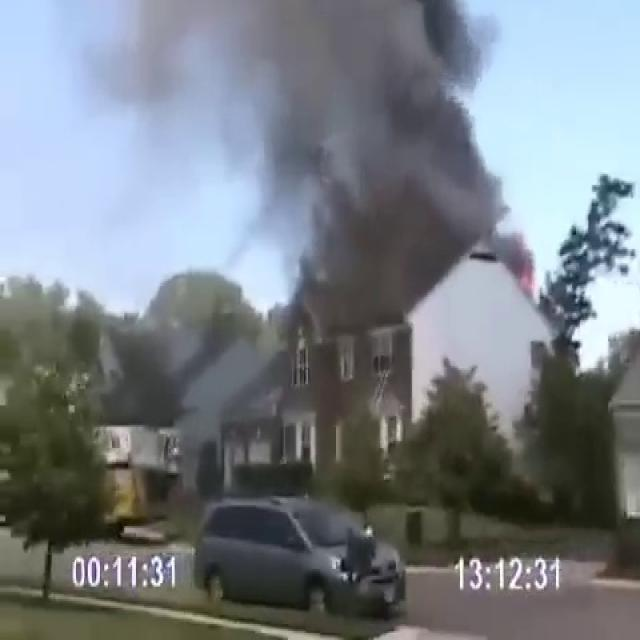Smoke: (68, 1, 535, 330)
